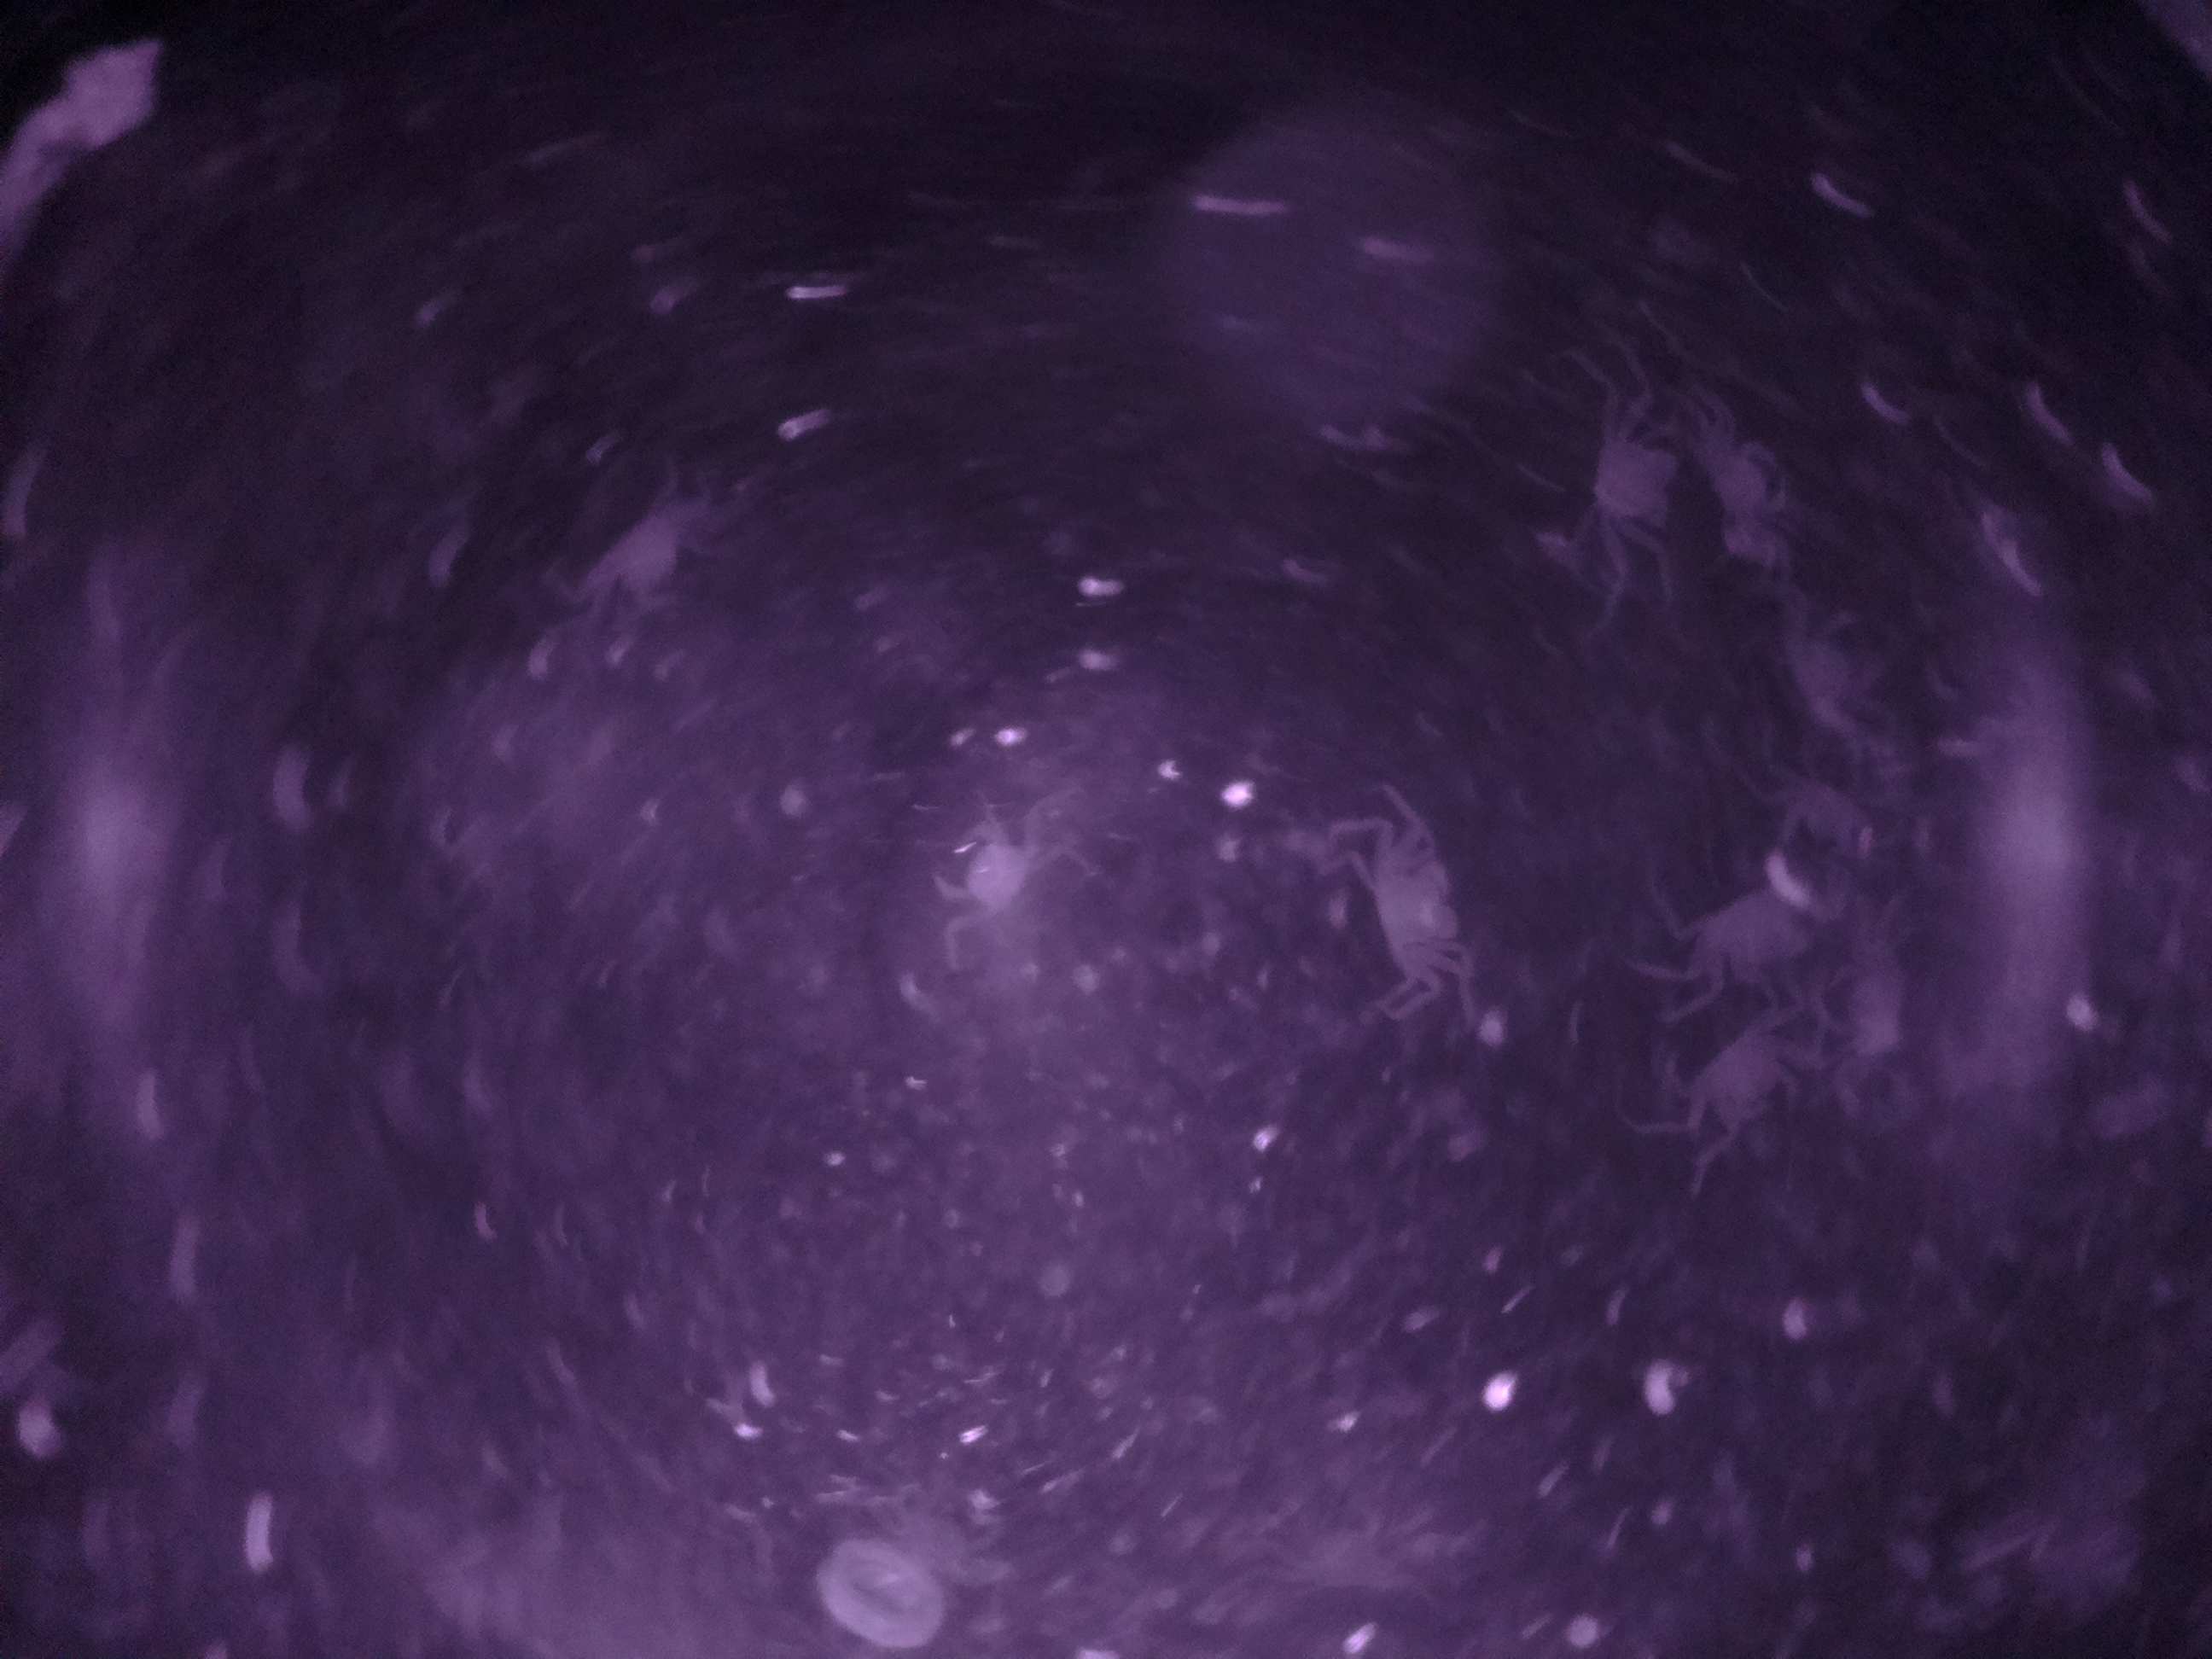Crab: (1360, 824, 1489, 999)
